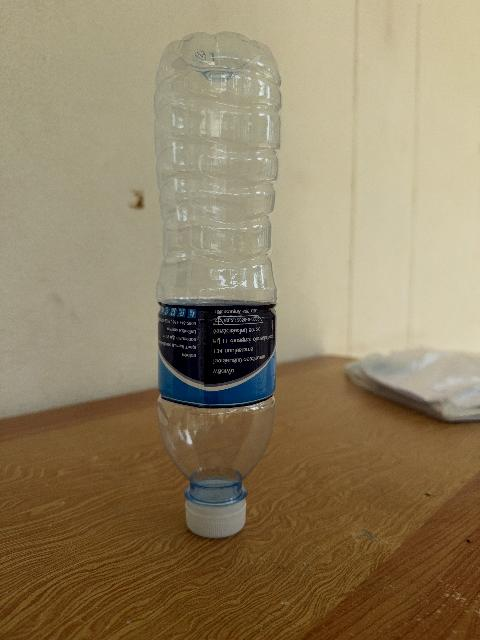bottle: (155, 33, 279, 537)
